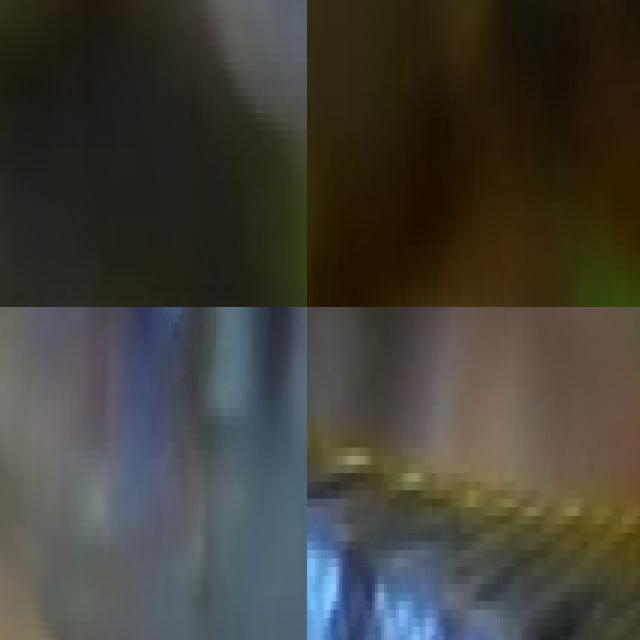fish: (0, 0, 307, 307), (307, 379, 640, 640)
